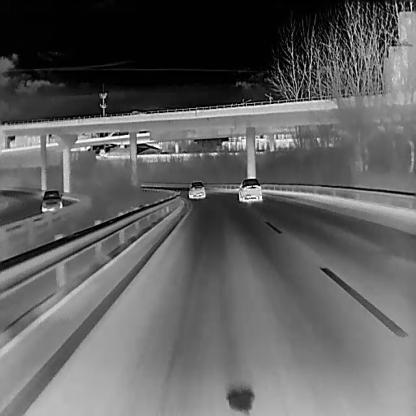car: (237, 177, 263, 202), (40, 190, 62, 212), (188, 180, 205, 198)
